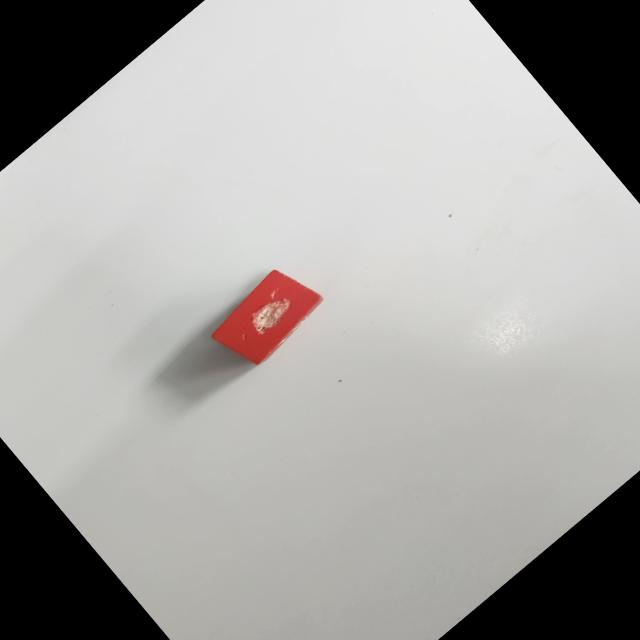broken: (202, 254, 331, 377)
